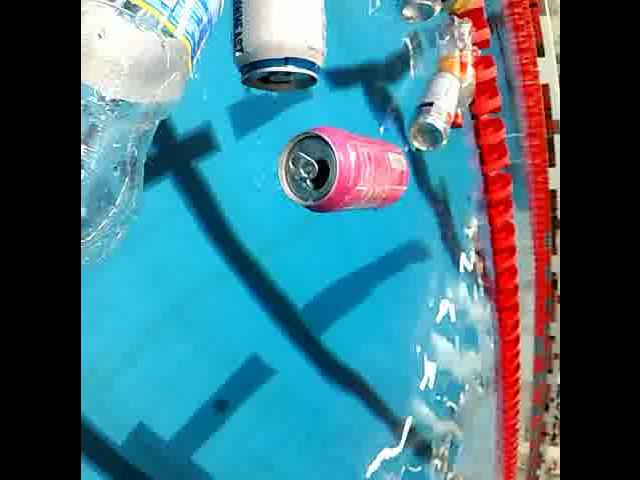Bottle: (80, 0, 231, 274), (440, 10, 474, 130)
Can: (230, 0, 330, 98), (404, 69, 462, 157), (393, 0, 443, 26), (437, 0, 479, 18)
